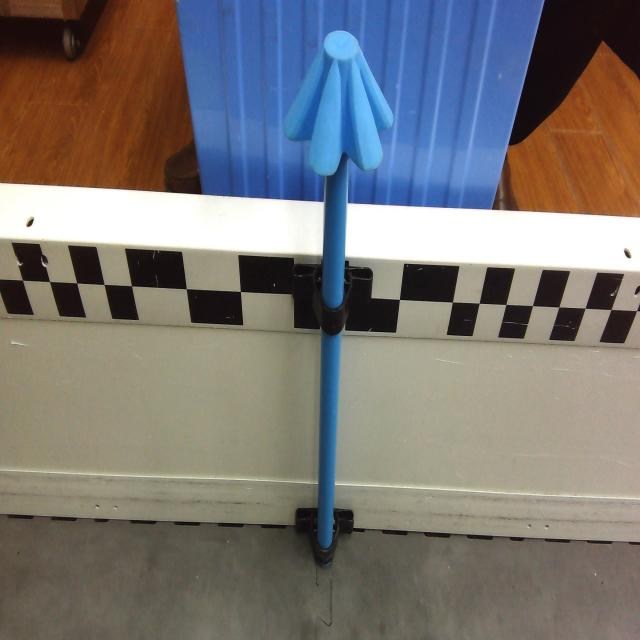zblue-Stake-Head: (286, 30, 396, 177)
